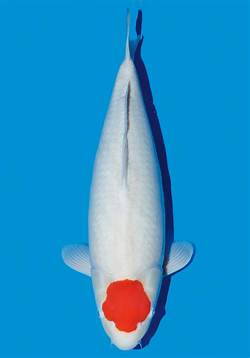sun: (60, 8, 194, 352)
